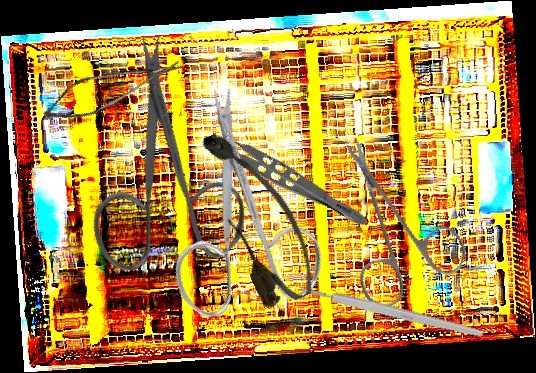Cannula: (191, 117, 326, 314)
Iris Scissors: (12, 26, 301, 316), (93, 80, 374, 359), (299, 135, 491, 329)
Micro Scissor: (38, 28, 185, 145)
Scalpel Handle: (298, 283, 486, 340)
Tissue Forceps: (210, 123, 376, 231)
